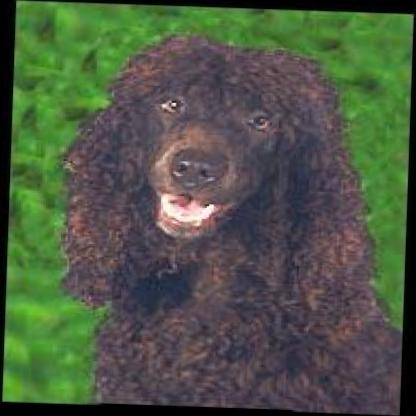Irish_water_spaniel: (43, 27, 415, 416)
